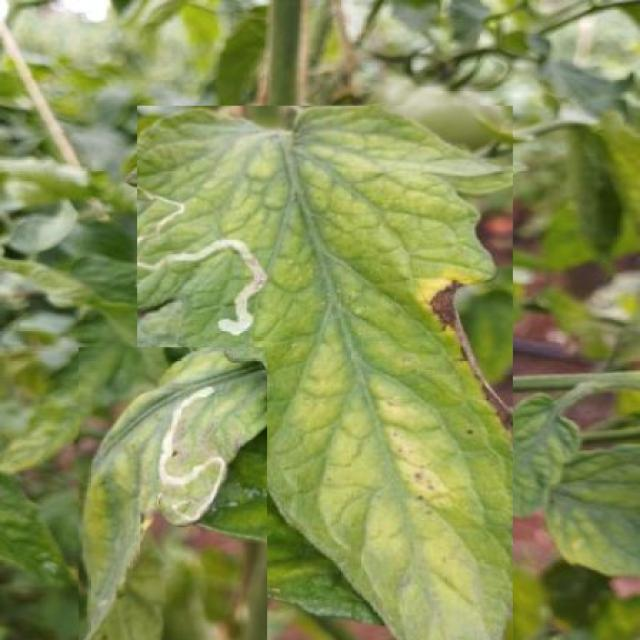Leaf Miner: (137, 105, 512, 640), (79, 347, 267, 640)
